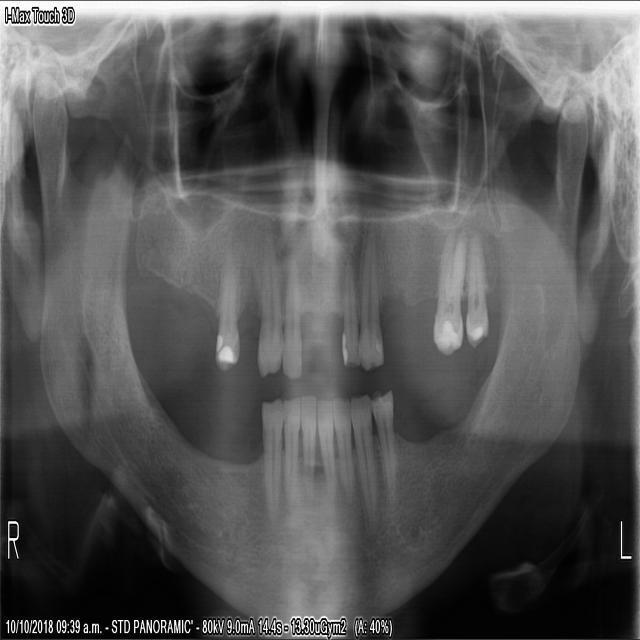LCD: (350, 393, 378, 518)
LCU: (340, 247, 361, 373)
LID: (332, 397, 356, 500), (317, 394, 335, 497)
LMU: (431, 227, 469, 357), (465, 232, 489, 349)
LPMD: (372, 387, 397, 503)
LPMU: (359, 239, 385, 373)
RCD: (260, 397, 283, 524)
RCU: (256, 237, 283, 373)
RID: (283, 394, 300, 497), (300, 392, 316, 499)
RIU: (283, 253, 303, 378)
RPMU: (212, 242, 240, 372)
